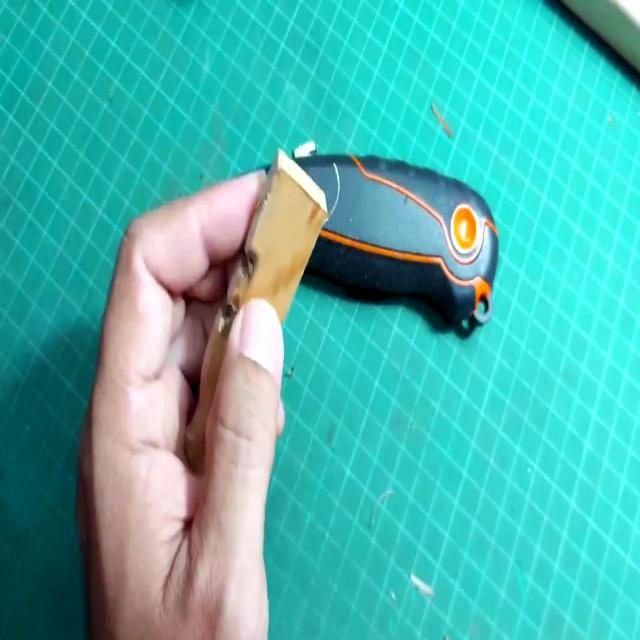cutter: (81, 88, 513, 640)
